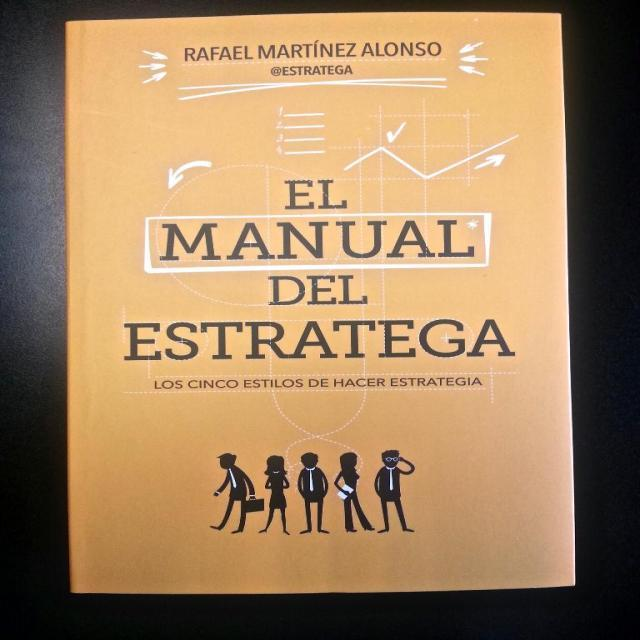book: (57, 10, 588, 600)
